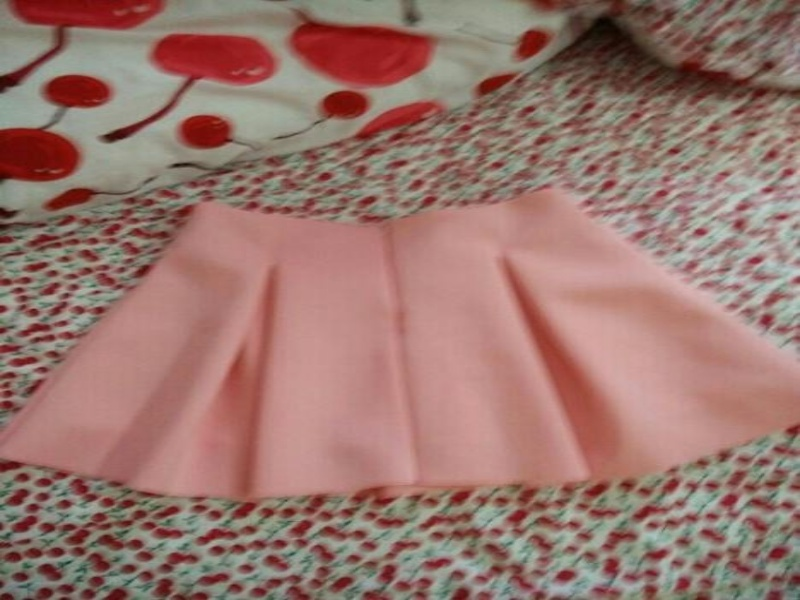skirt: (0, 188, 798, 505)
